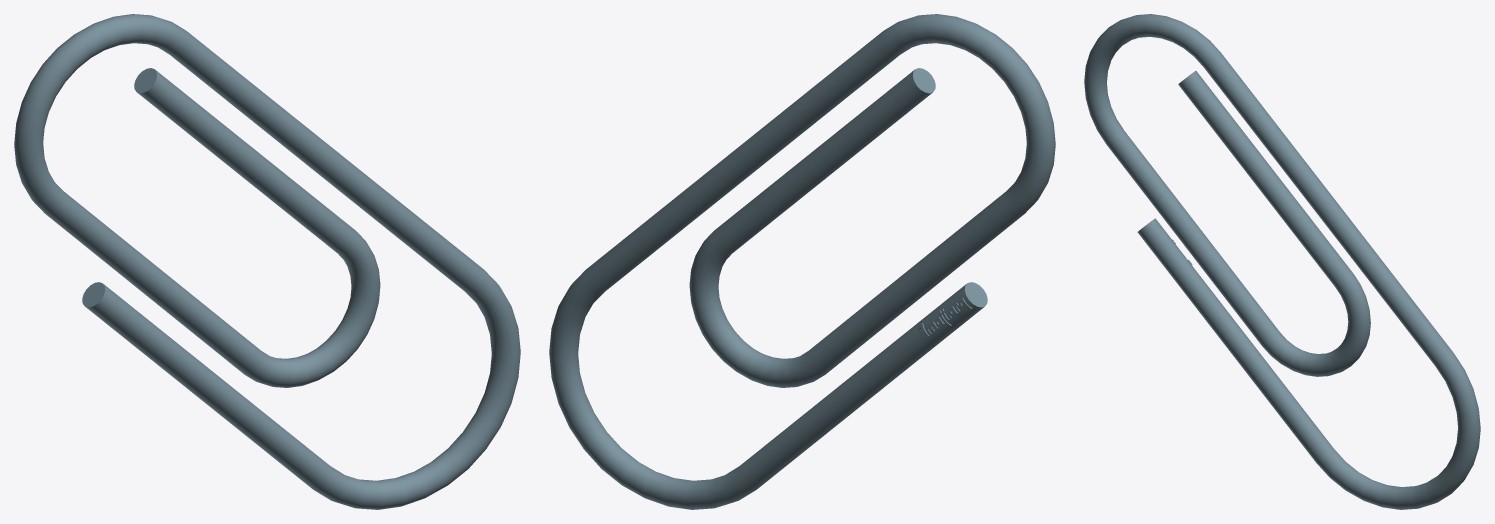
File: paperclip.fbx
The picture shows the model from 3 angles, left to right: view 1: azimuth 30°, elevation 25°; view 2: azimuth 150°, elevation 25°; view 3: azimuth 330°, elevation 25°; orthographic projection. The views are drawn at different scales.
Visible parts, largest first — view 1: Circle.2572; view 2: Circle.2572; view 3: Circle.2572.
Boxes of the visible parts, left/top/right/bottom form: Circle.2572: left=14, top=14, right=520, bottom=509; Circle.2572: left=549, top=14, right=1055, bottom=509; Circle.2572: left=1084, top=14, right=1480, bottom=509.
Bounding box in the file's own units: 216 × 228 × 11.37.
1 material, 1 textured.
